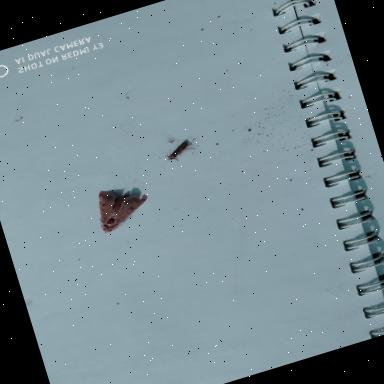pbw: (162, 140, 192, 164)
